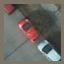car: (18, 13, 40, 42)
